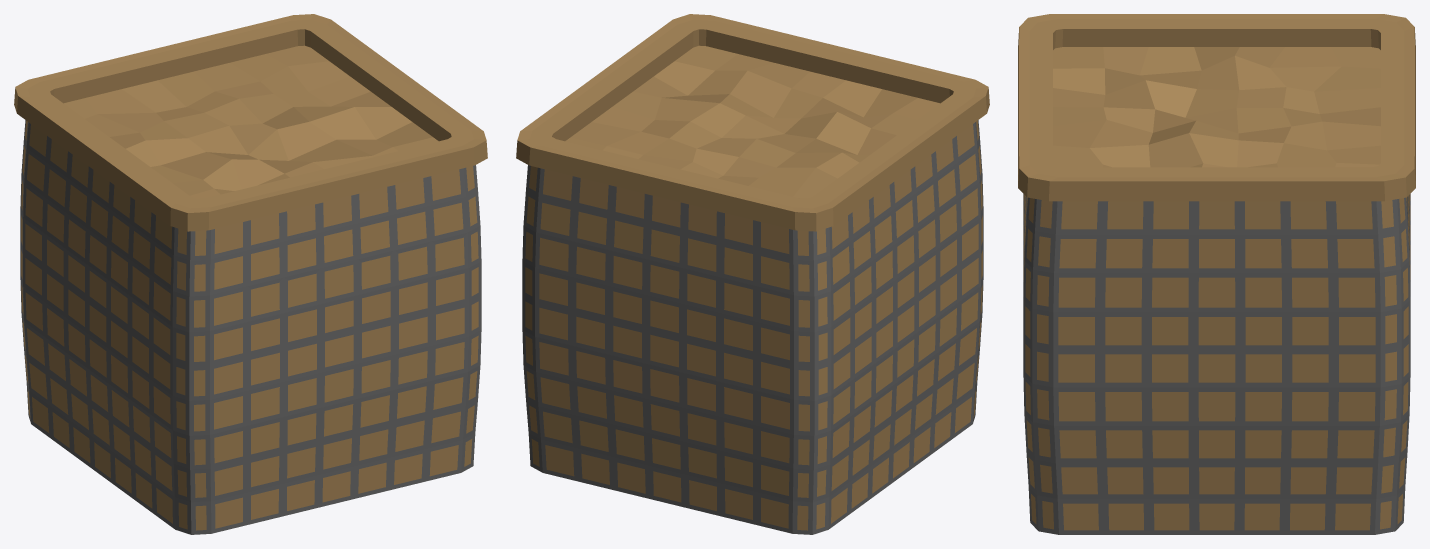
The model's file is sandbagbox.fbx.
The picture shows the model from 3 angles, left to right: view 1: azimuth 30°, elevation 25°; view 2: azimuth 150°, elevation 25°; view 3: azimuth 270°, elevation 25°; orthographic projection. The views are drawn at different scales.
Parts seen in each view (by area): view 1: Cube; view 2: Cube; view 3: Cube.
Boxes of the visible parts, x1,y1,x2,y2 form: Cube: [14, 14, 487, 534]; Cube: [516, 14, 989, 534]; Cube: [1018, 14, 1415, 534].
Bounding box in the file's own units: 213 × 212 × 213.
